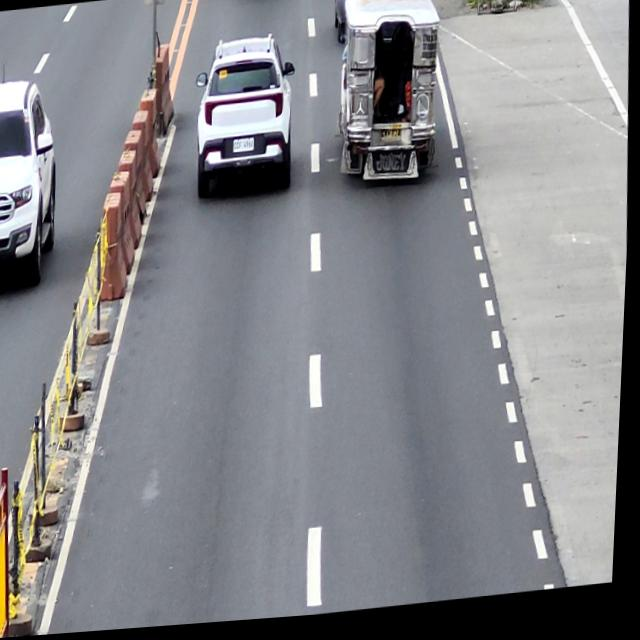Car: (190, 35, 300, 203), (0, 75, 63, 291), (332, 0, 406, 48)
Jeep: (334, 0, 447, 193)
License-Plate: (233, 142, 256, 157), (380, 134, 403, 148)
